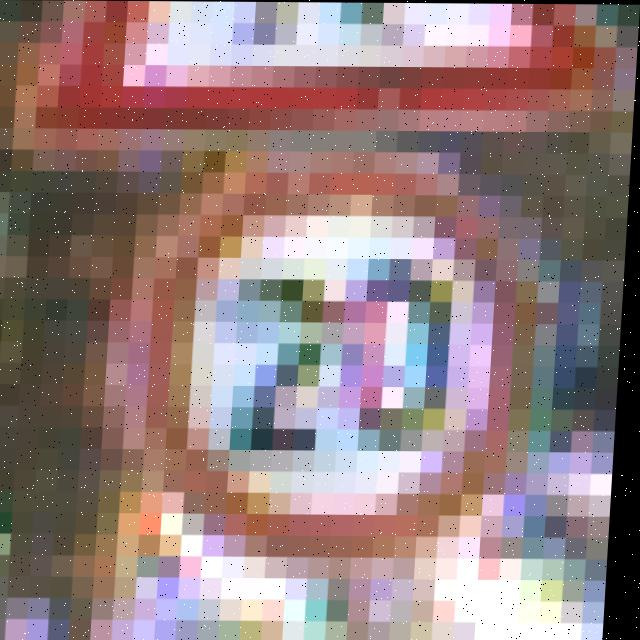speed_limit_20: (117, 151, 562, 560)
